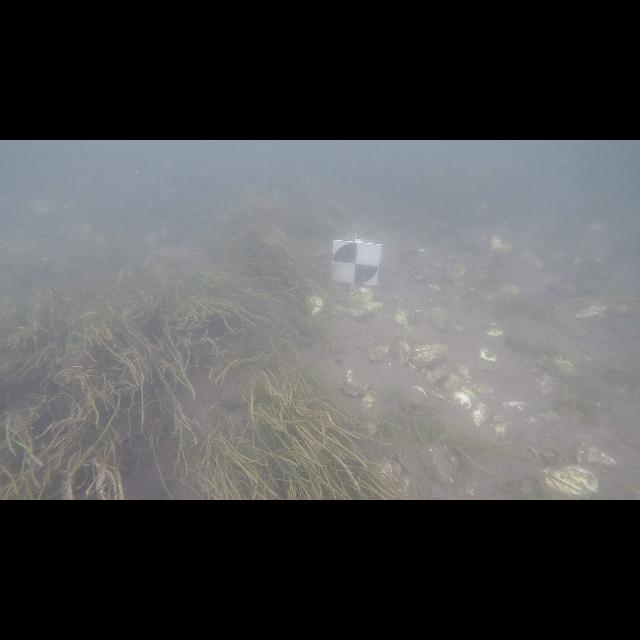Oyster-Closed: (541, 466, 599, 498), (412, 344, 449, 368), (345, 368, 370, 397), (475, 349, 498, 371), (395, 338, 412, 365), (440, 372, 460, 392), (351, 288, 372, 306), (471, 404, 486, 426), (454, 391, 472, 409), (395, 307, 412, 326), (368, 346, 390, 360), (490, 415, 506, 434), (308, 295, 324, 314), (428, 369, 448, 384), (502, 401, 525, 411), (362, 391, 375, 406)
Oyster-Open: (347, 299, 384, 323), (396, 446, 416, 476), (410, 310, 419, 325)
